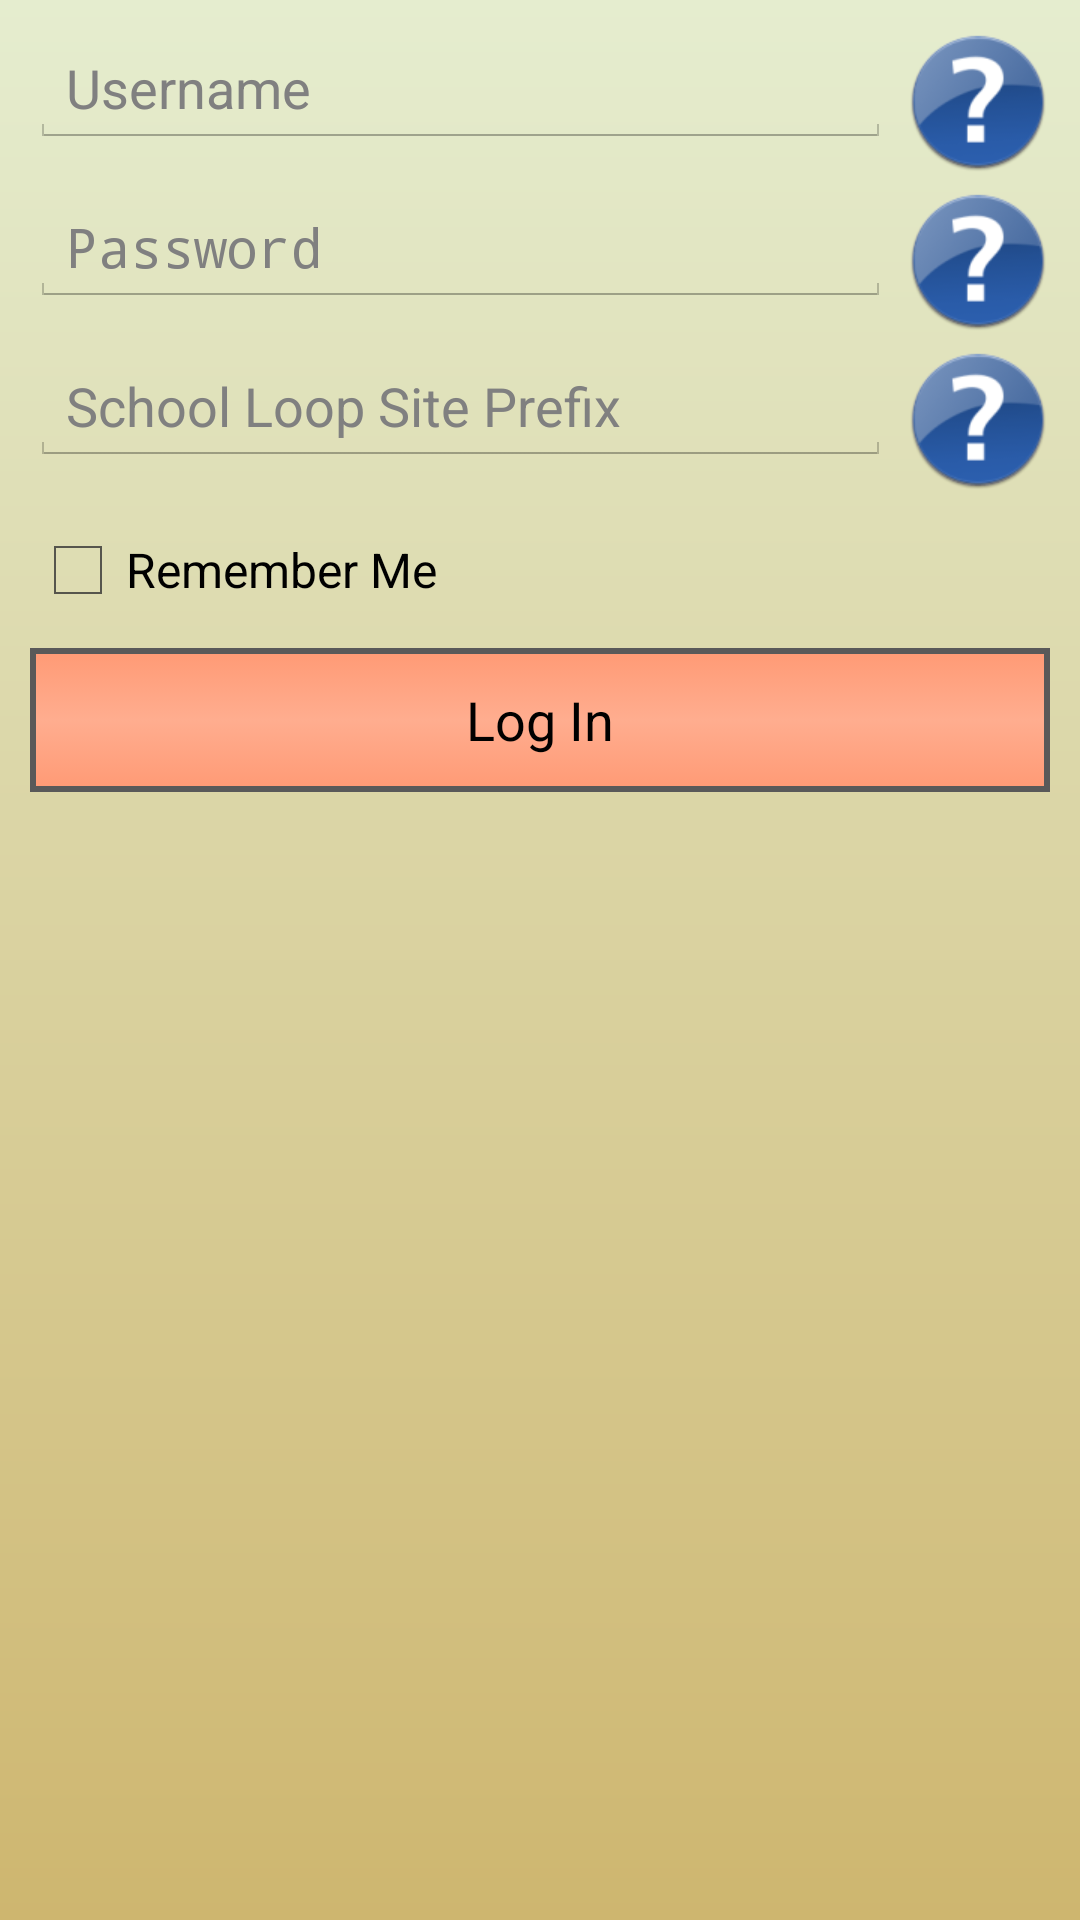

Screen size 1080x1920. Icon name, then its box in pixels as (x1=x1, y1=y1, x2=x2, y2=y2):
help: (x1=911, y1=36, x2=1045, y2=170), (x1=911, y1=195, x2=1045, y2=329), (x1=911, y1=354, x2=1045, y2=488)
